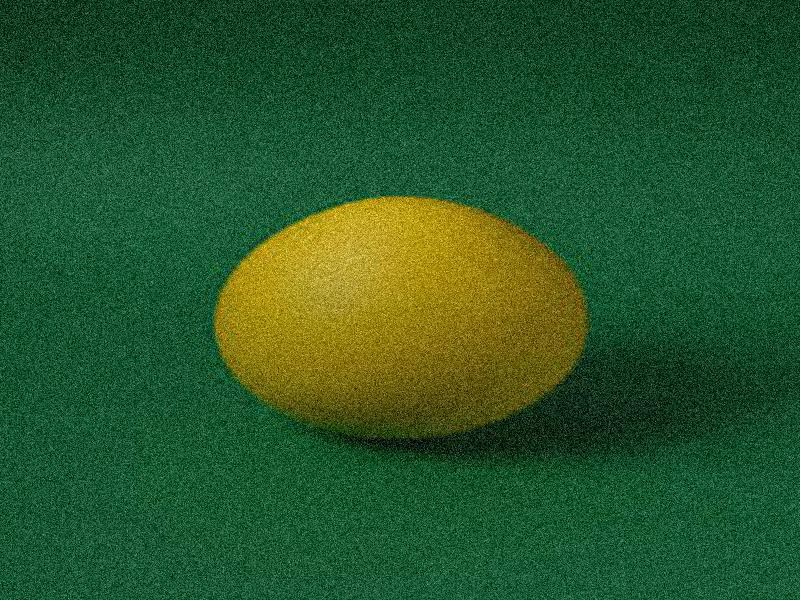Eggs: (209, 194, 576, 441)
